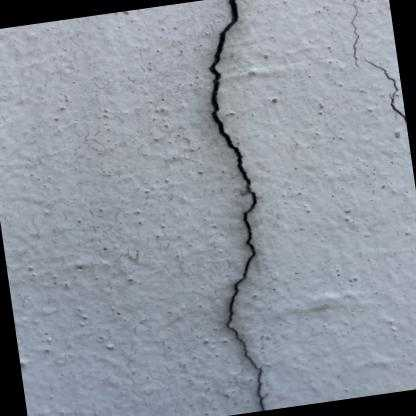crack: (209, 0, 264, 411), (364, 58, 406, 121), (351, 0, 359, 65)
